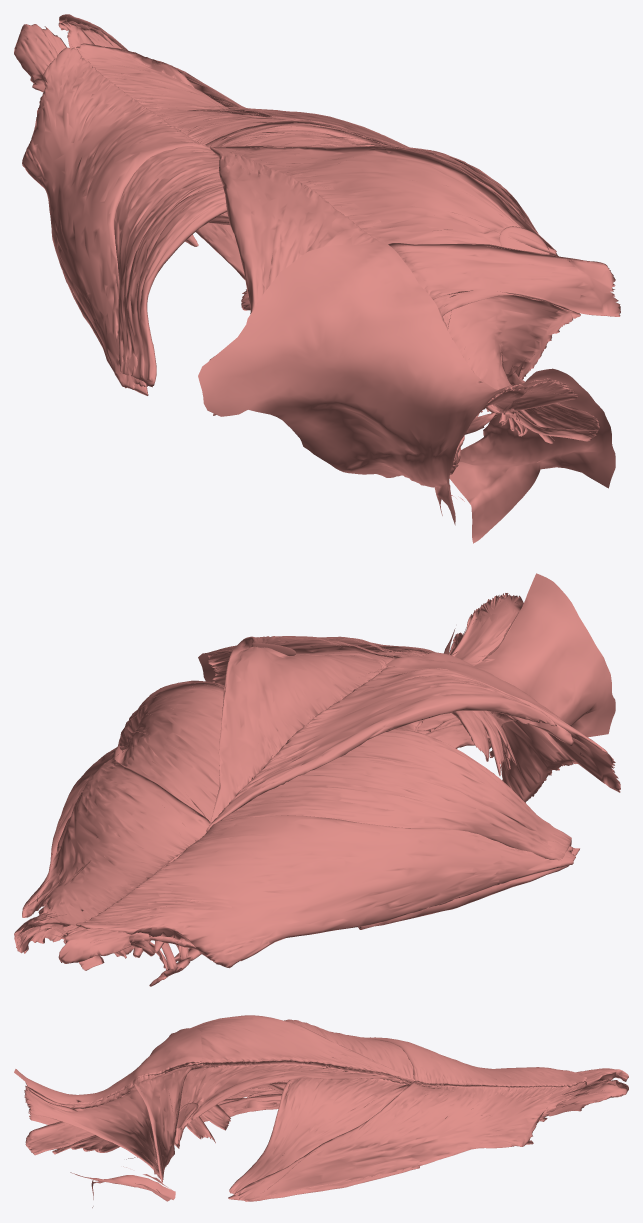
The model's file is back__muscular.bea850a20c.glb.
3 views of the same model, one above another, from view 1: azimuth 30°, elevation 25°; view 2: azimuth 150°, elevation 25°; view 3: azimuth 270°, elevation 25° (orthographic). The views are drawn at different scales.
Visible parts, largest first — view 1: Superficial investing cervical fascia.r, Latissimus dorsi muscle.r, Descending part of trapezius muscle.l, Latissimus dorsi muscle.l, Transverse part of trapezius muscle.l, Descending part of trapezius muscle.r, Superficial investing cervical fascia.l, Ascending part of trapezius muscle.l, Iliocostalis lumborum muscle.r, Splenius capitis muscle.l, Iliocostalis thoracis muscle.r, Spinalis capitis muscle.l (+4 smaller); view 2: Latissimus dorsi muscle.r, Latissimus dorsi muscle.l, Descending part of trapezius muscle.l, Superficial investing cervical fascia.r, Descending part of trapezius muscle.r, Ascending part of trapezius muscle.r, Ascending part of trapezius muscle.l, Iliocostalis lumborum muscle.r, Transverse part of trapezius muscle.r, Serratus posterior superior muscle.r, Transverse part of trapezius muscle.l, Iliocostalis lumborum muscle.l (+3 smaller); view 3: Latissimus dorsi muscle.l, Descending part of trapezius muscle.r, Latissimus dorsi muscle.r, Descending part of trapezius muscle.l, Ascending part of trapezius muscle.l, Transverse part of trapezius muscle.l, Superficial investing cervical fascia.r, Splenius capitis muscle.l, Iliocostalis thoracis muscle.l, Iliocostalis lumborum muscle.l, Superficial investing cervical fascia.l, Serratus posterior superior muscle.l (+7 smaller).
Part boxes in pixels (x1,y1,x2,y2): Superficial investing cervical fascia.r: (198,241,516,525); Latissimus dorsi muscle.r: (22,47,227,395); Descending part of trapezius muscle.l: (212,145,570,276); Latissimus dorsi muscle.l: (76,43,538,233); Transverse part of trapezius muscle.l: (388,243,620,316); Descending part of trapezius muscle.r: (210,147,378,313); Superficial investing cervical fascia.l: (449,359,615,543); Ascending part of trapezius muscle.l: (433,290,580,413); Iliocostalis lumborum muscle.r: (14,24,198,246); Splenius capitis muscle.l: (521,403,599,441); Iliocostalis thoracis muscle.r: (196,212,245,280); Spinalis capitis muscle.l: (509,381,577,410); Latissimus dorsi muscle.r: (76,729,579,968); Latissimus dorsi muscle.l: (22,680,253,925); Descending part of trapezius muscle.l: (210,636,404,824); Superficial investing cervical fascia.r: (385,573,615,780); Descending part of trapezius muscle.r: (206,666,573,833); Ascending part of trapezius muscle.r: (501,720,577,802); Ascending part of trapezius muscle.l: (374,593,523,665); Iliocostalis lumborum muscle.r: (59,928,206,963); Transverse part of trapezius muscle.r: (382,666,620,792); Serratus posterior superior muscle.r: (451,710,516,775); Transverse part of trapezius muscle.l: (208,638,432,685); Iliocostalis lumborum muscle.l: (14,860,90,953); Latissimus dorsi muscle.l: (228,1078,586,1201); Descending part of trapezius muscle.r: (190,1015,421,1085); Latissimus dorsi muscle.r: (284,1019,586,1087); Descending part of trapezius muscle.l: (165,1060,413,1144); Ascending part of trapezius muscle.l: (24,1085,163,1179); Transverse part of trapezius muscle.l: (134,1062,199,1184); Superficial investing cervical fascia.r: (14,1028,202,1196); Splenius capitis muscle.l: (25,1121,94,1155); Iliocostalis thoracis muscle.l: (199,1093,281,1121); Iliocostalis lumborum muscle.l: (481,1080,628,1122); Superficial investing cervical fascia.l: (70,1083,175,1207); Serratus posterior superior muscle.l: (122,1094,230,1148).
Size of the model in its own units: 358 by 198 by 681.
